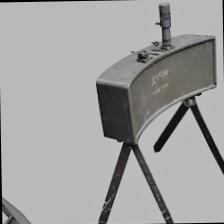MOH-50: (76, 11, 224, 189)
